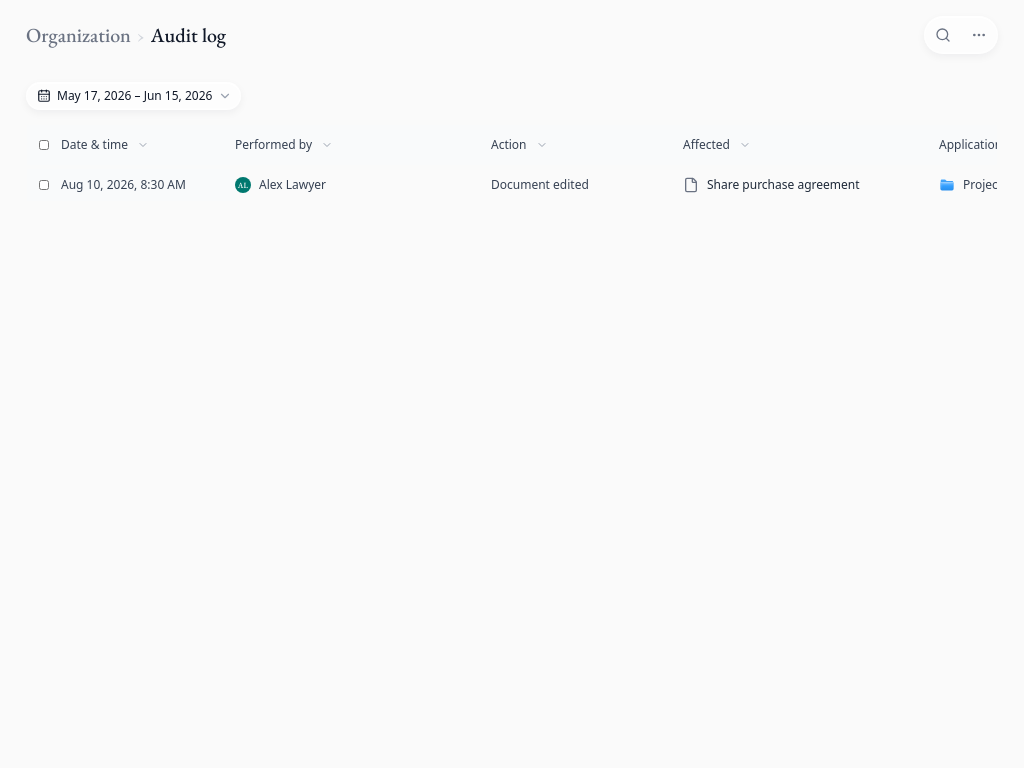
it: MyActivitySettingsPage › uses organization-specific export failure text
Check: the text "Share purchase agreement" is shown, box [707, 177, 860, 193]
Click the button named "Audit log actions": coordinates (979, 35) [965, 21, 993, 49]
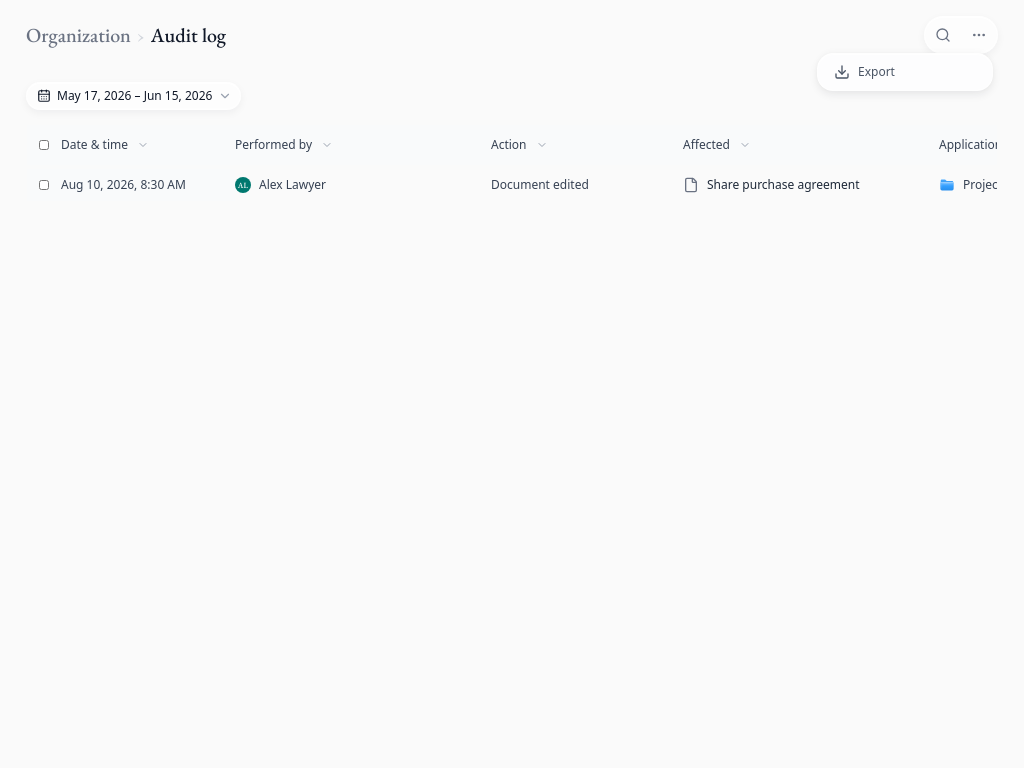
Click the menu item "Export": coordinates (864, 72) [834, 63, 895, 80]
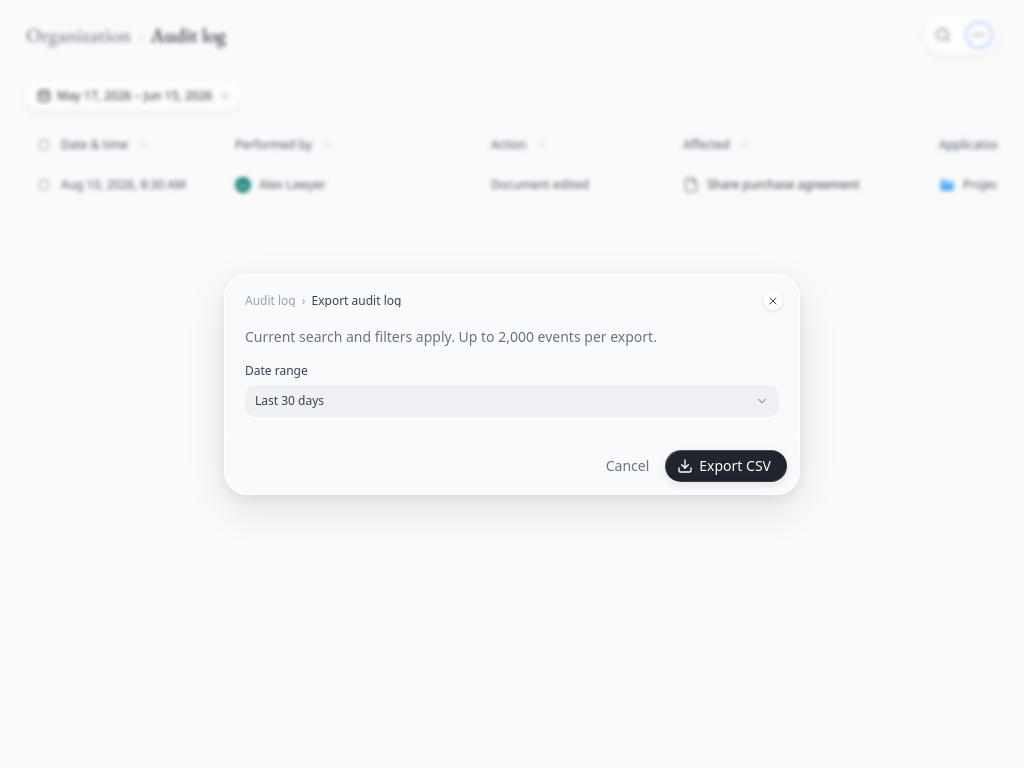
Click the button named "Export CSV": coordinates (726, 466) [665, 450, 787, 482]
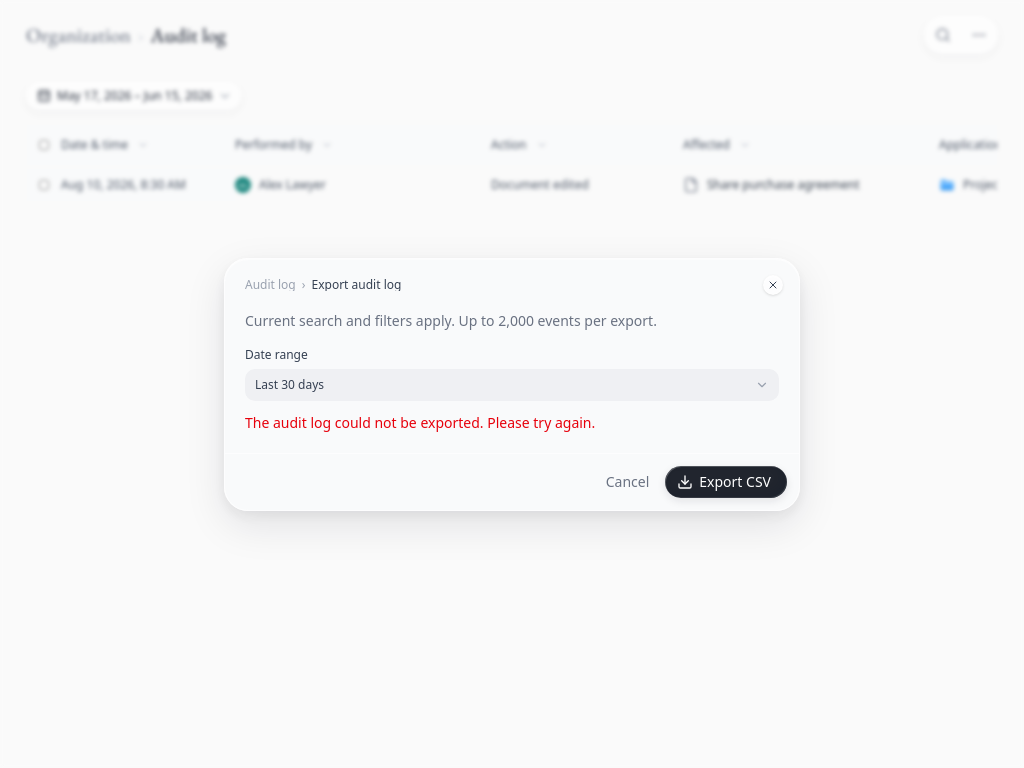
Check: the message reads "The audit log could not be exported. Please try again.", box [245, 412, 595, 432]
